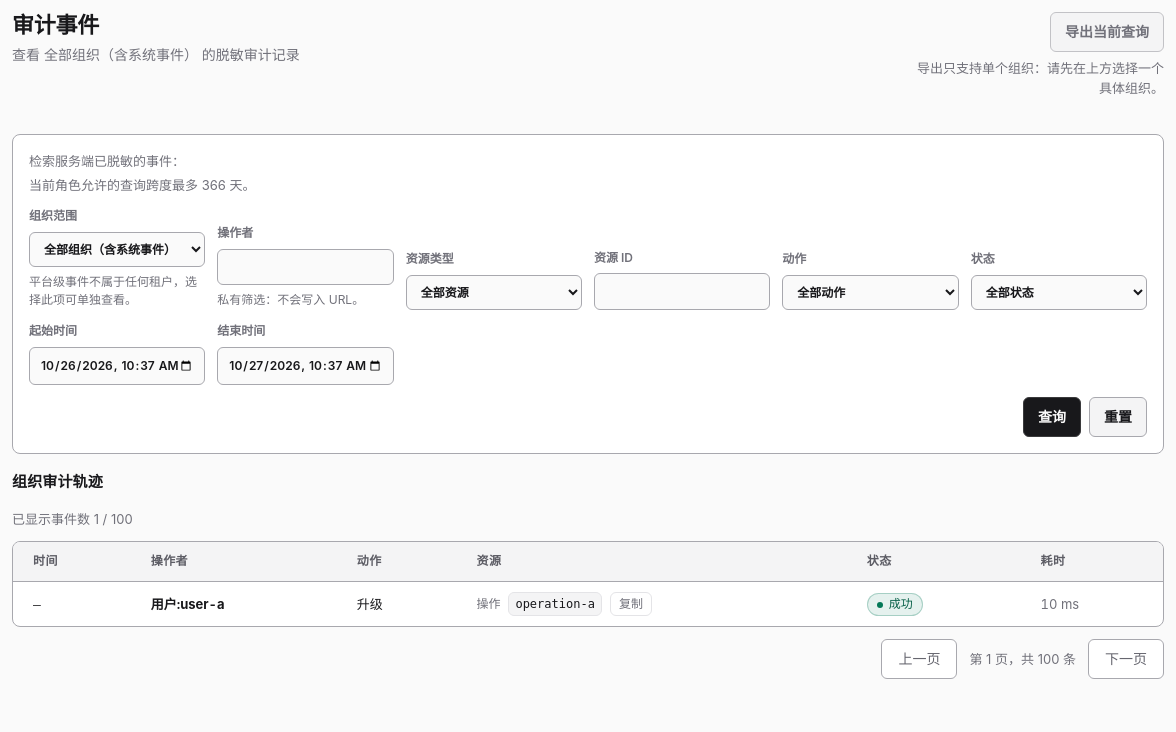
Test: AuditPage › disables export with a hint while the scope is every organization
The width and height of the screenshot is (1176, 732).
expect the button "导出当前查询" is disabled: met, box left=1050, top=12, right=1164, bottom=52
Select "Globex" in the dropdown named "organization". click: [117, 249]
box: left=29, top=232, right=205, bottom=267
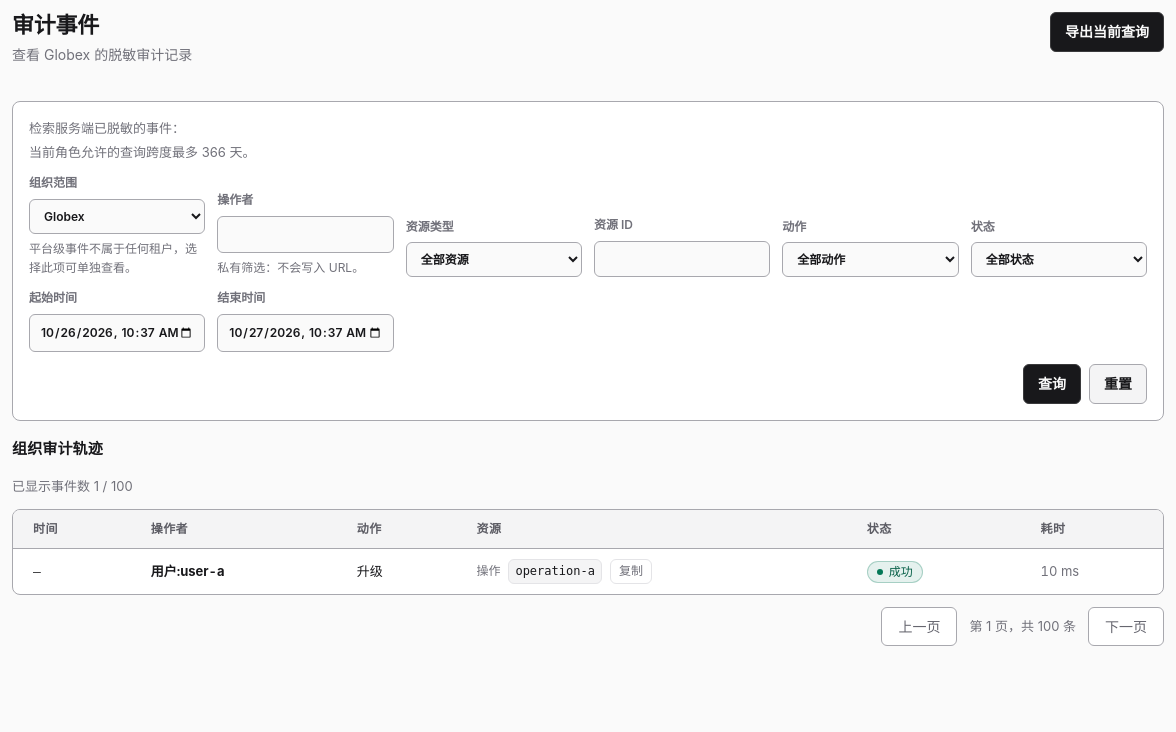
expect the button "导出当前查询" is enabled: met, box left=1050, top=12, right=1164, bottom=52
